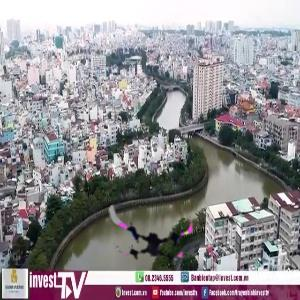drone: (112, 194, 199, 281)
